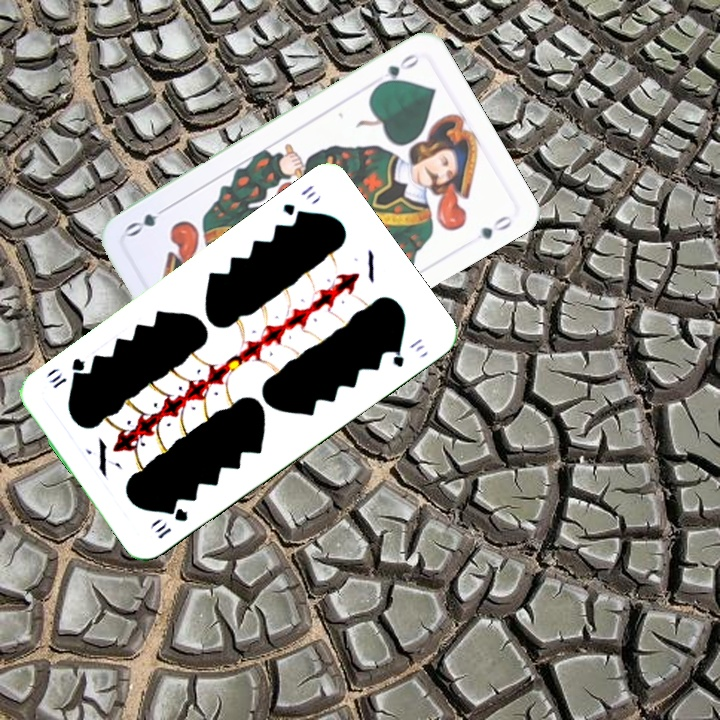G10: (278, 180, 319, 223), (152, 503, 191, 542)
GO: (372, 49, 422, 90)
